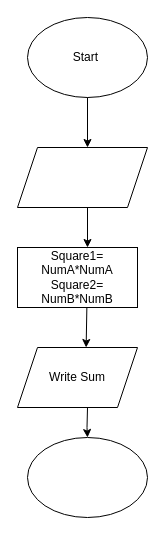
This 165x535 diagram has some shape labels left out. The box of each missing label's shape, as (x1, y1, x2, y2) in pixels:
End: (26, 436, 148, 518)
ReadNumA, NumB, Sum: (16, 146, 148, 208)
